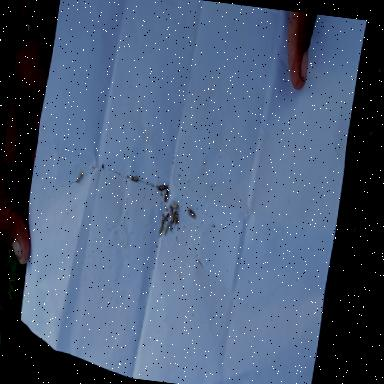pbw: (74, 168, 83, 182), (161, 210, 169, 224), (186, 207, 195, 218), (163, 185, 168, 202), (174, 210, 180, 224), (170, 210, 176, 224), (130, 174, 138, 182), (170, 201, 178, 209), (168, 204, 173, 216), (158, 184, 166, 190), (164, 222, 168, 232)
